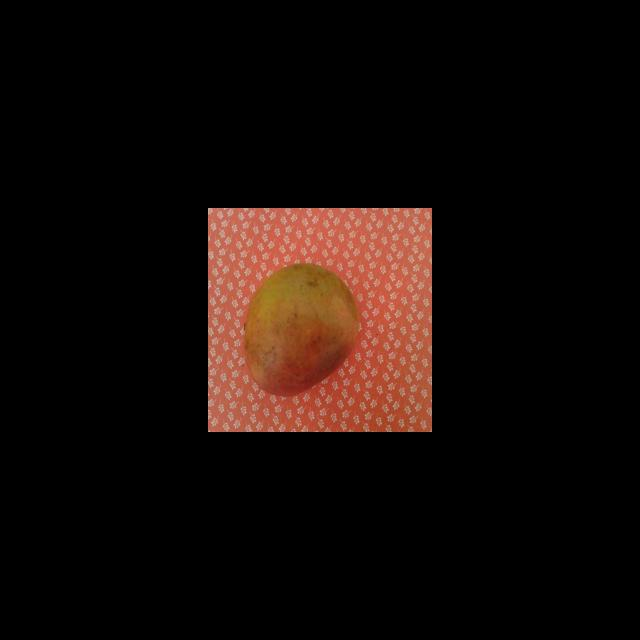Mango: (243, 262, 360, 396)
